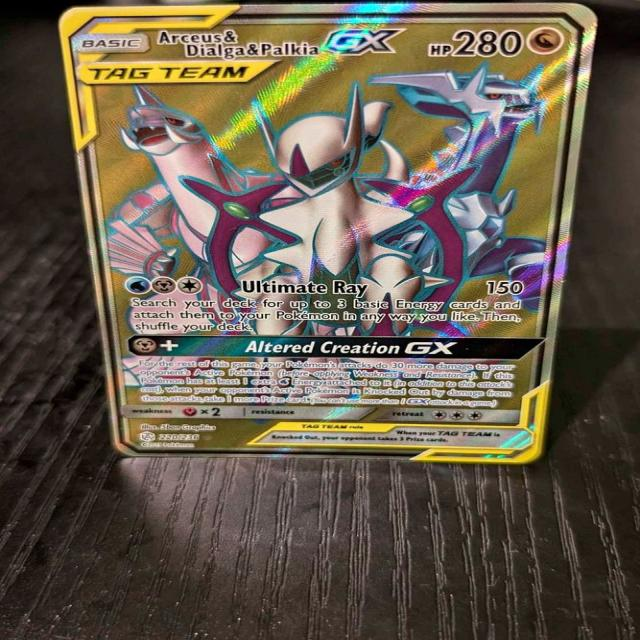card: (56, 3, 602, 466)
